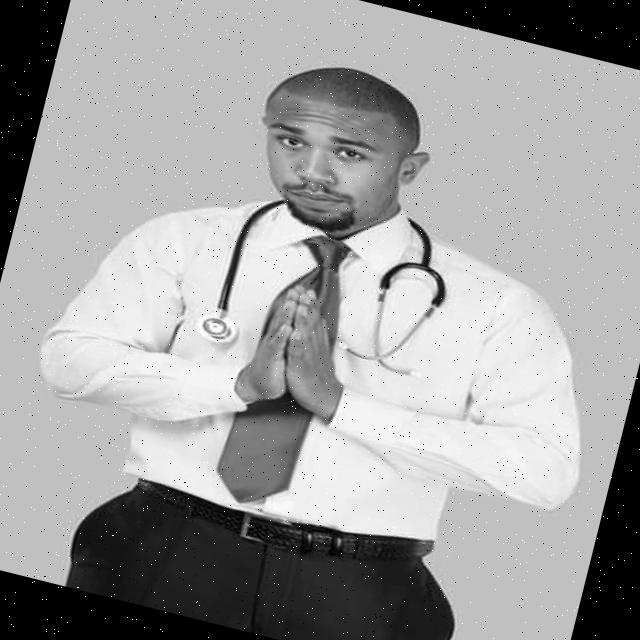Sadness: (246, 92, 407, 240)
